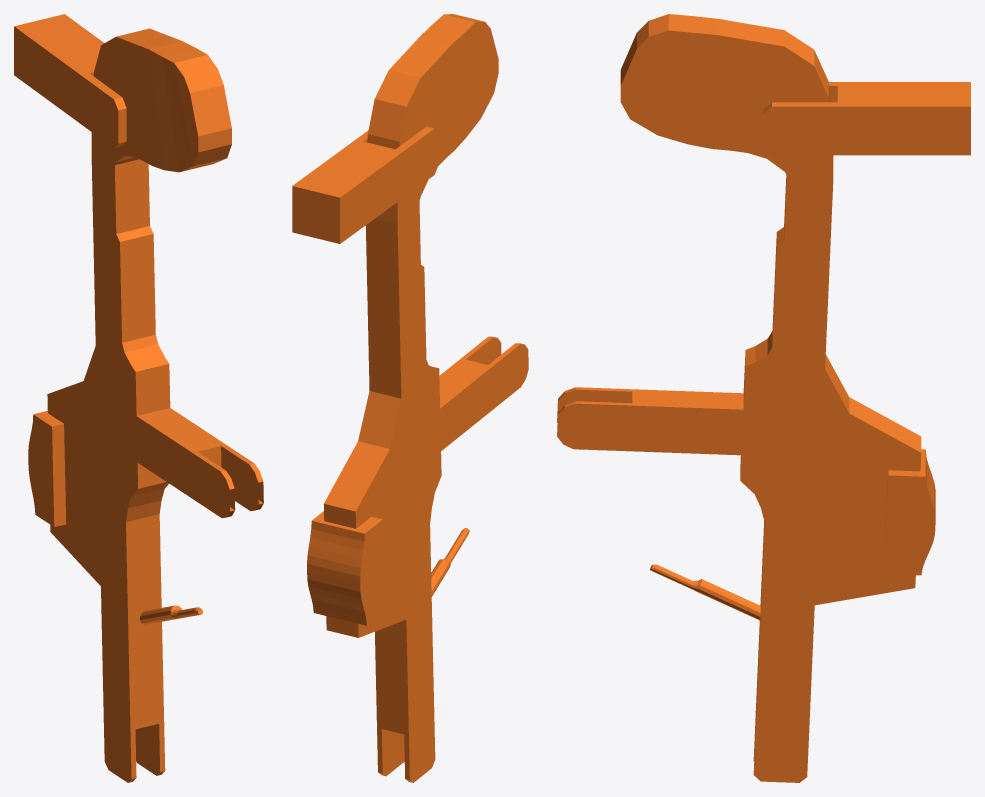
File: key_wippen.obj
The picture shows the model from 3 angles, left to right: view 1: azimuth 30°, elevation 25°; view 2: azimuth 150°, elevation 25°; view 3: azimuth 270°, elevation 25°; orthographic projection. The views are drawn at different scales.
Visible parts, largest first — view 1: white_keys.001_Cube.123; view 2: white_keys.001_Cube.123; view 3: white_keys.001_Cube.123.
Boxes of the visible parts, x1=… form: white_keys.001_Cube.123: x1=14, y1=14, x2=263, y2=782; white_keys.001_Cube.123: x1=292, y1=14, x2=528, y2=782; white_keys.001_Cube.123: x1=557, y1=14, x2=970, y2=782.
Size of the model in its own units: 0.0115 by 0.1482 by 0.0739.
